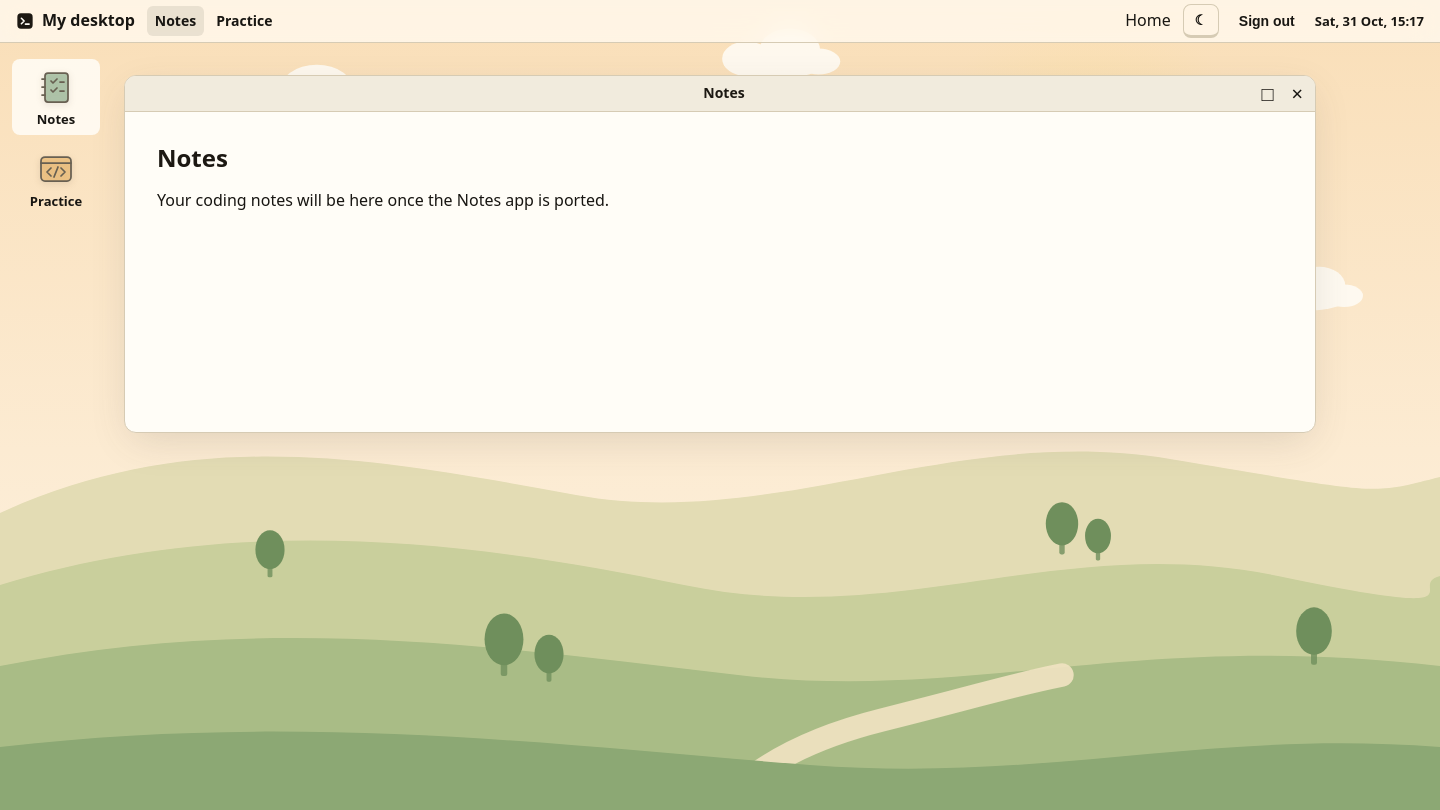
Test case: opens and records deep-linked internal apps, with maximise and close controls
Expected: the element "Notes" is shown, [124,75,1316,433]
Click the button named "Maximise window": (1268, 94) [1256,78,1280,110]
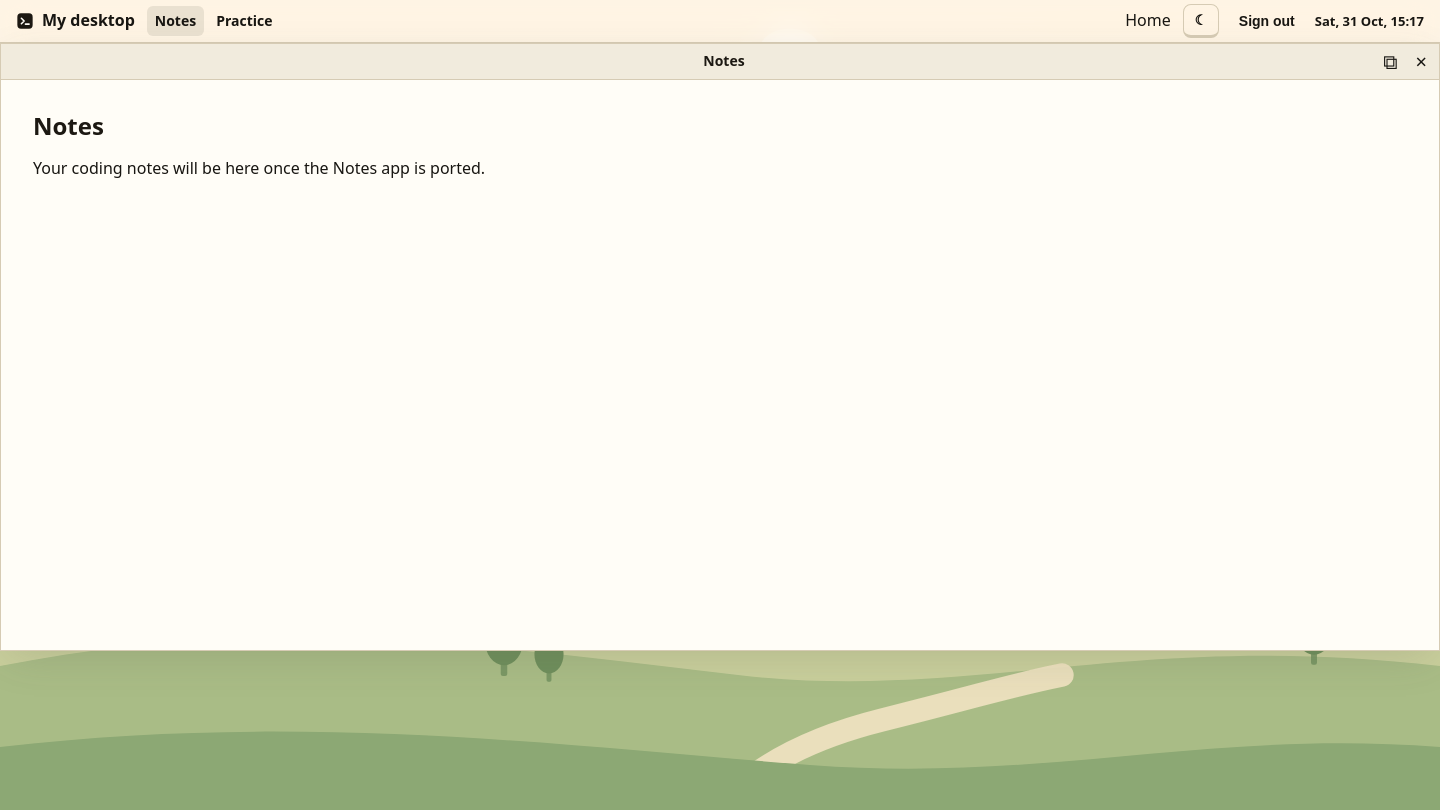
Expected: the button named "Restore window" is shown, [1377,46,1404,78]
